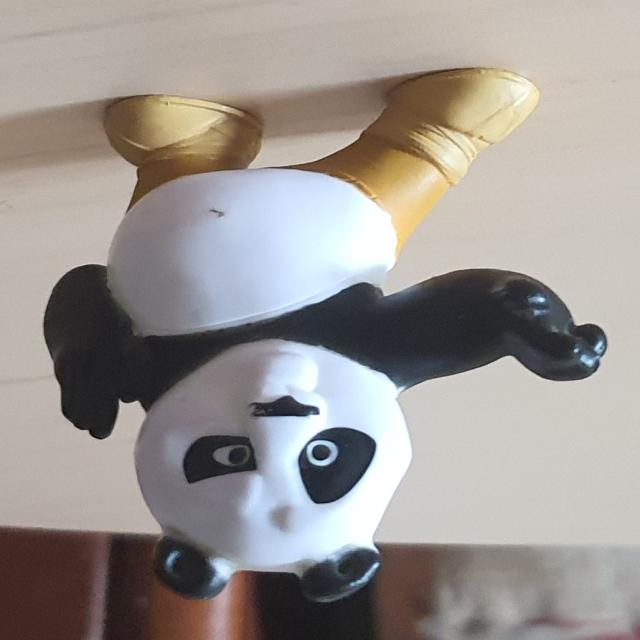Panda: (42, 68, 608, 604)
